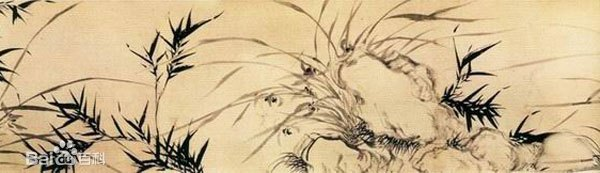grass: (353, 134, 543, 173), (308, 56, 364, 145), (184, 93, 301, 124), (361, 41, 421, 77), (444, 89, 499, 121), (154, 135, 201, 170), (58, 95, 101, 127), (454, 45, 496, 66), (311, 1, 326, 55), (380, 15, 465, 24), (197, 38, 270, 47), (172, 39, 190, 73), (508, 112, 536, 133), (167, 21, 206, 35), (1, 6, 37, 21), (83, 131, 147, 139), (582, 136, 597, 170), (120, 108, 146, 127), (130, 38, 155, 56), (153, 85, 162, 132), (274, 157, 308, 169), (1, 103, 53, 110), (345, 9, 356, 39), (325, 42, 352, 54), (271, 49, 298, 61), (194, 61, 268, 65), (278, 69, 302, 79), (149, 62, 159, 79), (1, 76, 16, 86), (1, 48, 16, 56), (1, 68, 13, 71)
